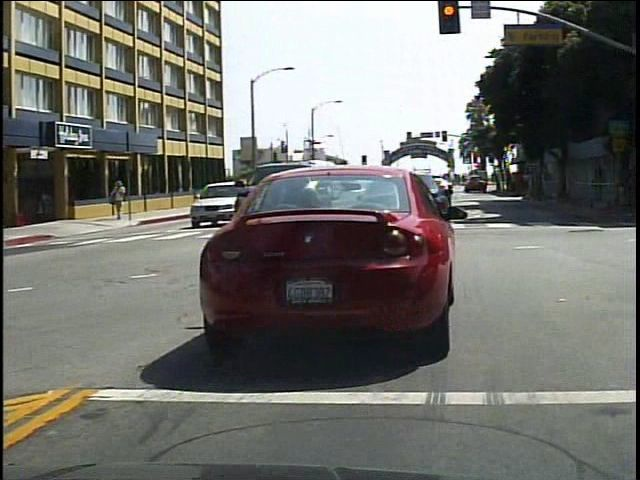person: (111, 176, 133, 224)
